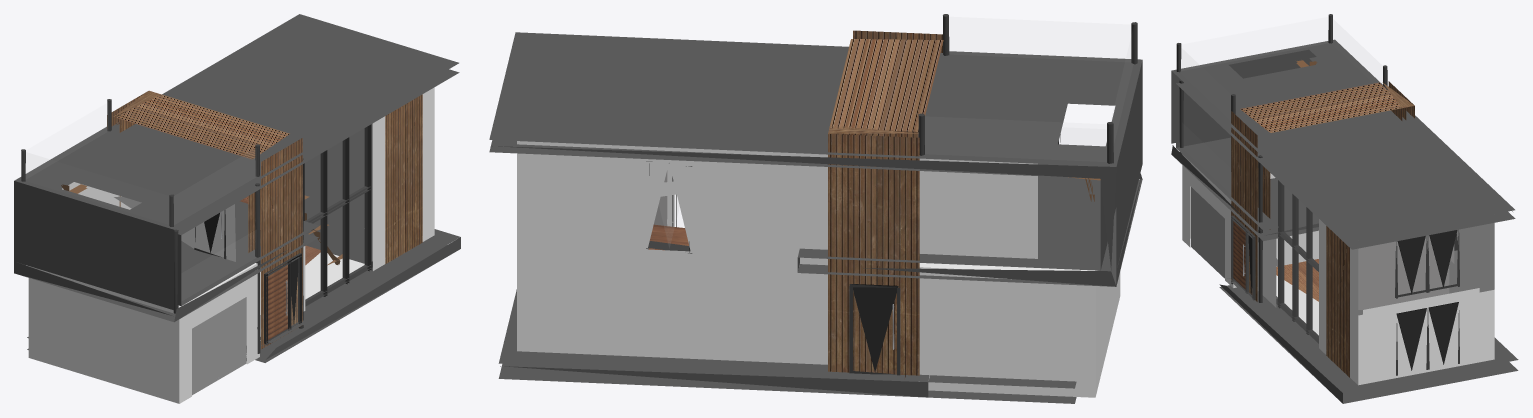
File: house-real-2s3.glb
3 views of the same model, side by side, from view 1: azimuth 30°, elevation 25°; view 2: azimuth 150°, elevation 25°; view 3: azimuth 270°, elevation 25° (orthographic). The views are drawn at different scales.
Parts seen in each view (by area): view 1: Cladding, Box012, Box009, Box091, Box011, Box013, Parter001, Box036, Parter, Box006, Box007, Box003 (+4 smaller); view 2: Cladding, Parter001, Parter, Box009, Box012, Box011, Box101, Box014; view 3: Cladding, Parter, Box009, Box011, Box013, Box091, Parter001, Box012, Box036, Box103, Box105, Box018 (+9 smaller).
Part boxes in pixels (x1,y1,x2,y2): Cladding: [14, 14, 459, 322]; Box012: [28, 263, 259, 403]; Box009: [107, 90, 302, 349]; Box091: [385, 94, 422, 263]; Box011: [27, 229, 460, 362]; Box013: [304, 123, 372, 263]; Parter001: [68, 87, 434, 261]; Box036: [192, 297, 246, 395]; Parter: [246, 158, 434, 345]; Box006: [320, 150, 327, 296]; Box007: [342, 137, 349, 284]; Box003: [364, 124, 371, 271]; Cladding: [489, 32, 1142, 286]; Parter001: [517, 141, 1037, 265]; Parter: [517, 170, 827, 364]; Box009: [828, 30, 943, 379]; Box012: [919, 263, 1120, 397]; Box011: [498, 289, 1076, 403]; Box101: [852, 284, 898, 372]; Box014: [648, 224, 688, 250]; Cladding: [1171, 39, 1515, 249]; Parter: [1257, 236, 1494, 385]; Box009: [1231, 81, 1414, 301]; Box011: [1219, 278, 1518, 403]; Box013: [1358, 235, 1454, 309]; Box091: [1326, 226, 1349, 377]; Parter001: [1270, 173, 1494, 314]; Box012: [1182, 154, 1318, 287]; Box036: [1191, 187, 1224, 278]; Box103: [1428, 302, 1458, 364]; Box105: [1396, 308, 1426, 370]; Box018: [1231, 215, 1255, 300].
Bounding box in the file's own units: 15949 × 7097 × 11620.
Materials: 9 (3 with a texture image).
